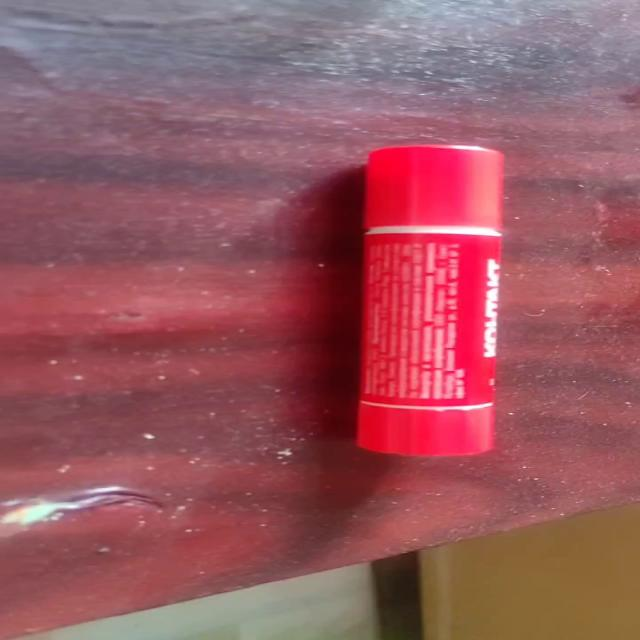glue: (354, 143, 505, 457)
